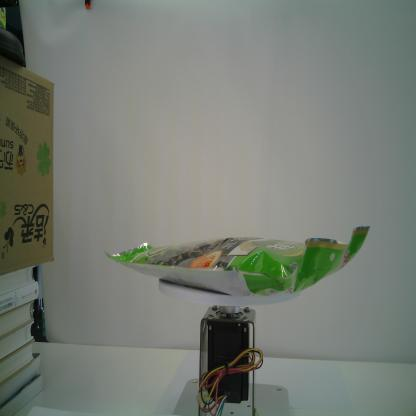Dried Food: (99, 222, 372, 302)
